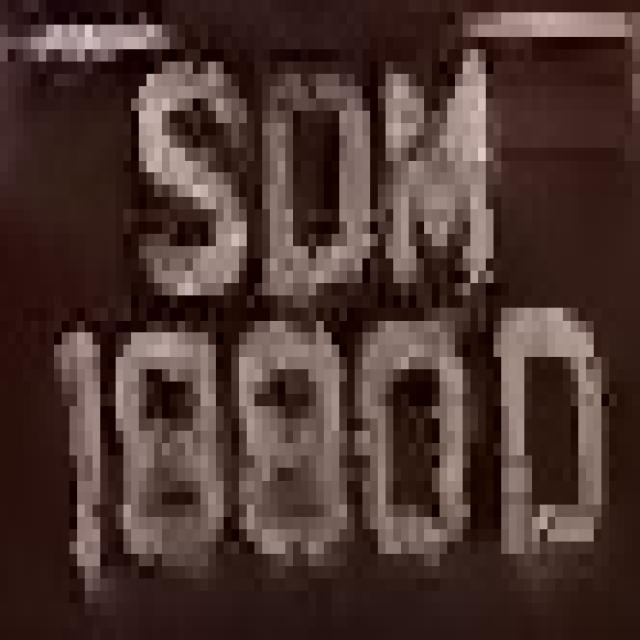0: (347, 295, 463, 591)
1: (54, 271, 116, 578)
8: (208, 295, 362, 591), (100, 283, 208, 591)
D: (478, 258, 625, 591), (247, 25, 370, 332)
M: (339, 37, 517, 332)
S: (124, 50, 262, 332)
